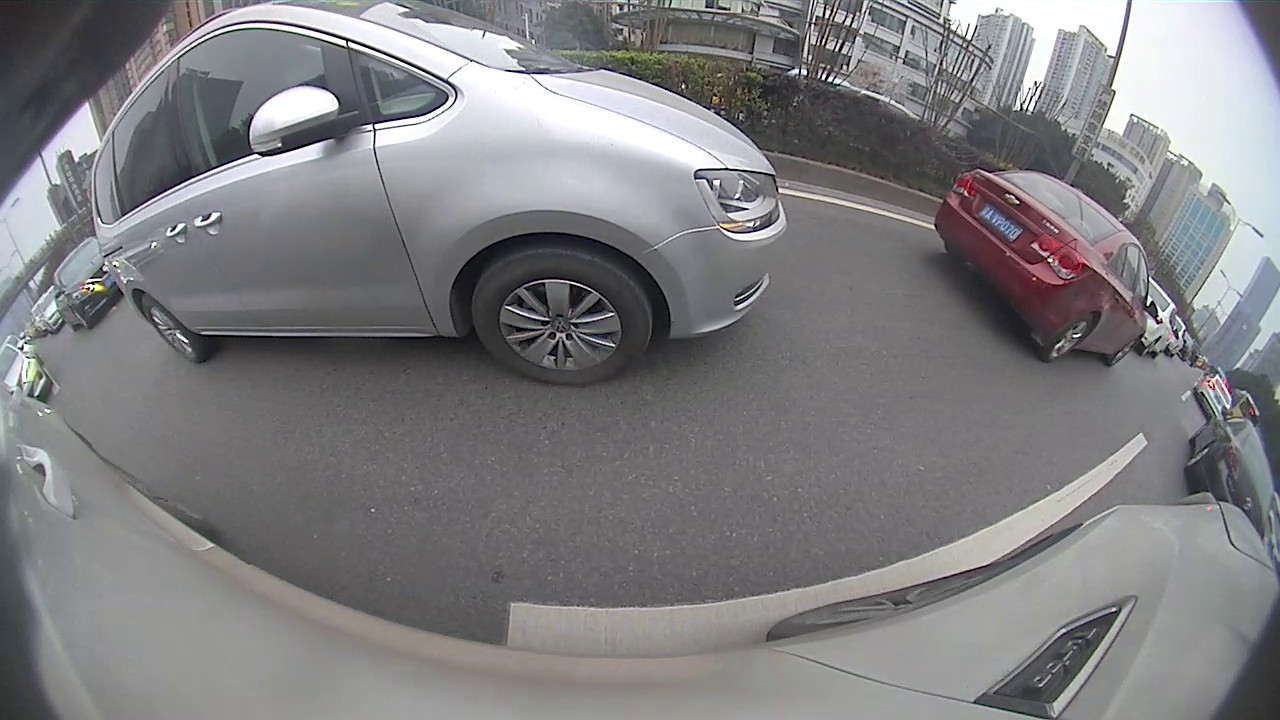car: (88, 3, 790, 388), (933, 167, 1163, 368), (1181, 406, 1275, 540), (51, 235, 123, 333), (1193, 373, 1233, 424)
front: (470, 247, 653, 391)
rear: (141, 290, 209, 368), (1037, 311, 1100, 365)
